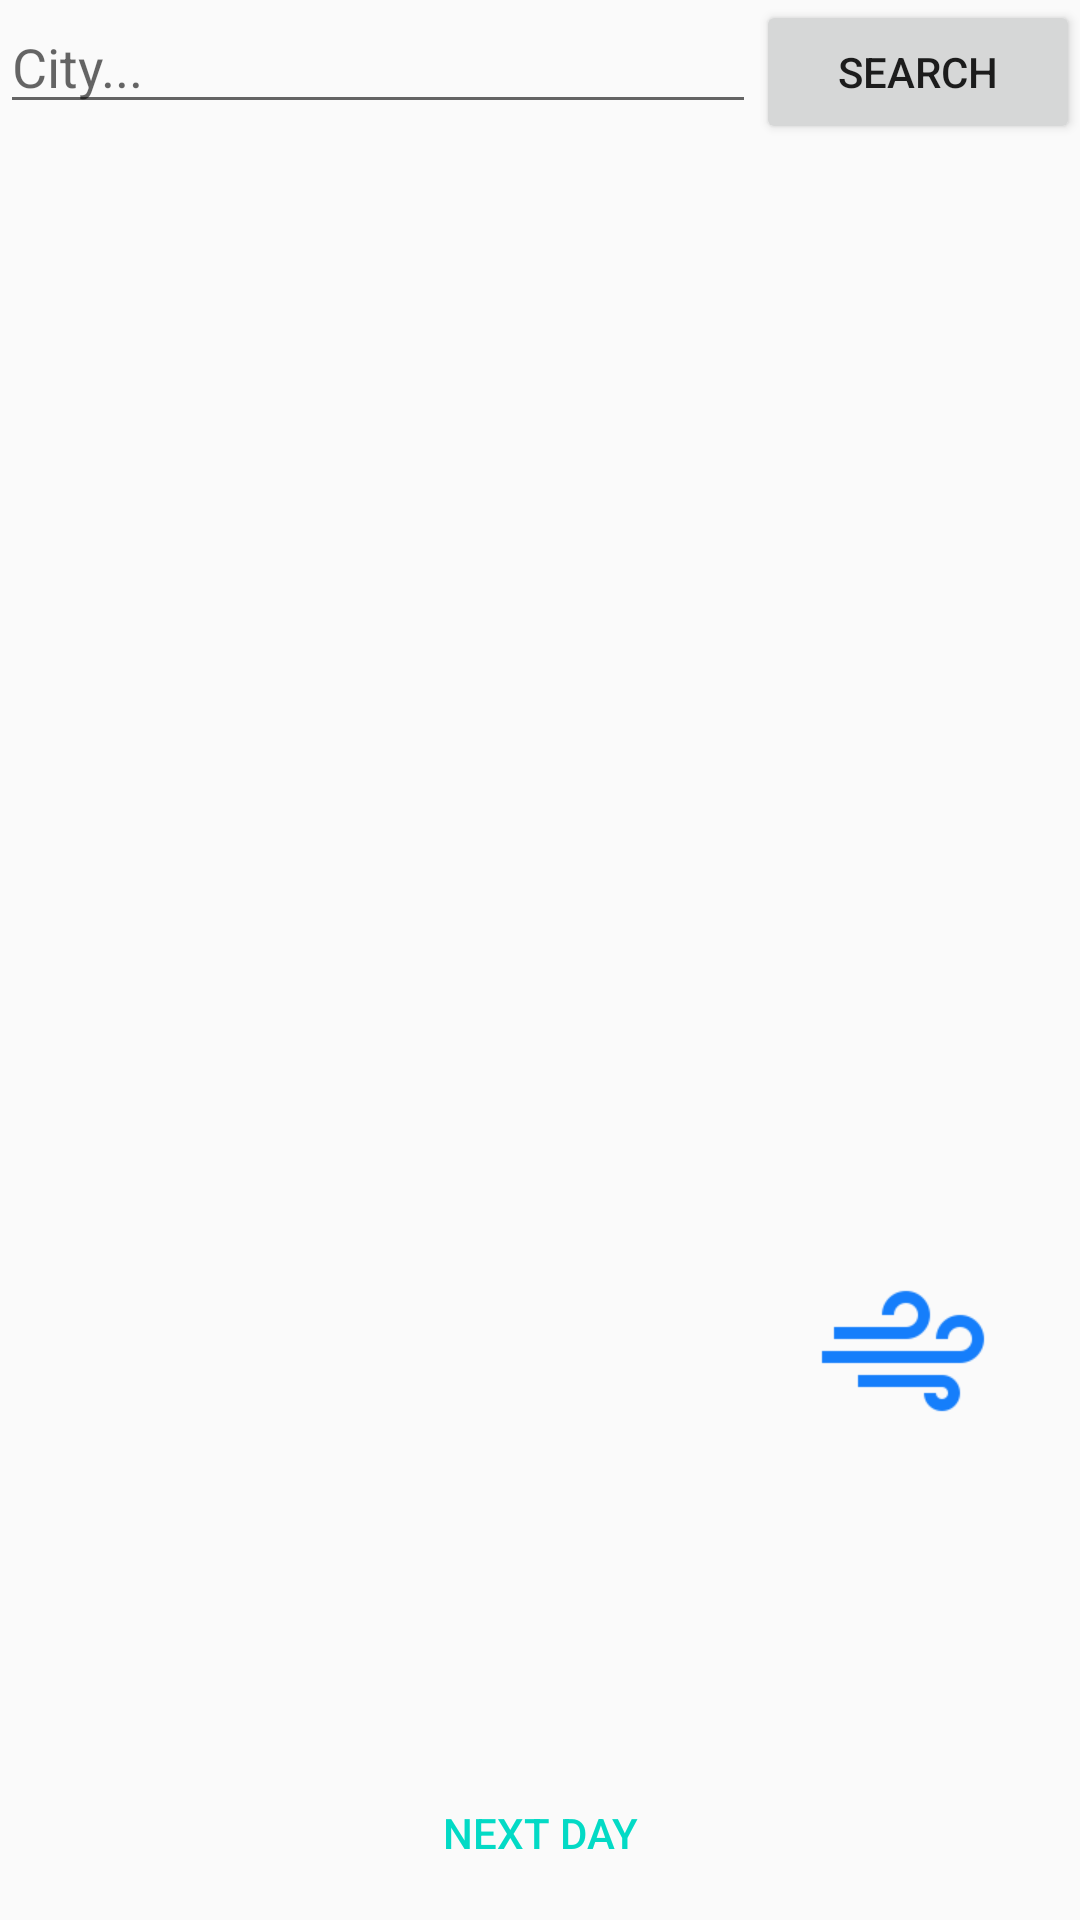

Locate icon controls on the screen. Image size 1080x1920, boxes as (left=x1, top=y1, right=x2, bottom=y2).
wind: (left=821, top=1290, right=985, bottom=1412)
